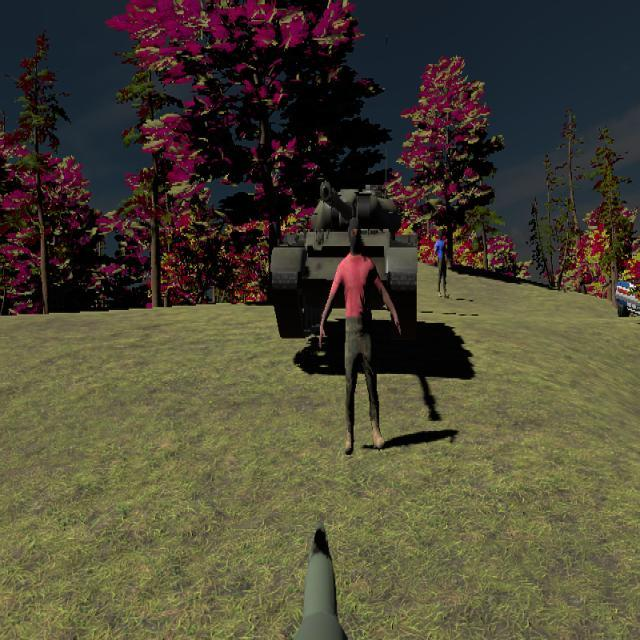Human: (319, 208, 401, 457), (433, 227, 450, 298)
Tank: (270, 181, 419, 339)
car: (616, 278, 640, 322)
